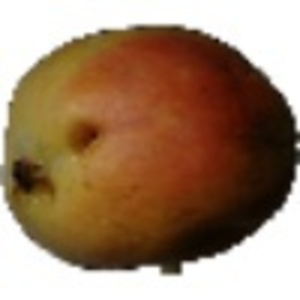mamão: (1, 20, 293, 266)
